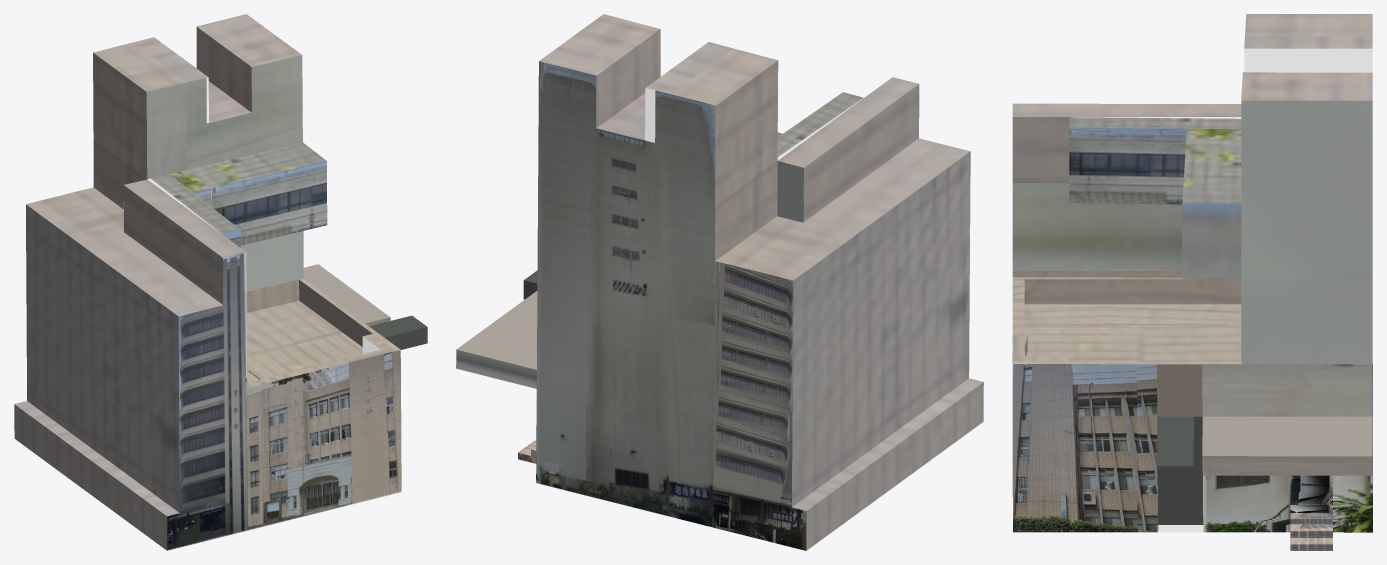
The model's file is zcl.glb.
The picture shows the model from 3 angles, left to right: view 1: azimuth 30°, elevation 25°; view 2: azimuth 150°, elevation 25°; view 3: azimuth 270°, elevation 25°; orthographic projection. The views are drawn at different scales.
Visible parts, largest first — view 1: 資訊樓; view 2: 資訊樓; view 3: 資訊樓.
Part boxes in pixels (x1,y1,x2,y2): 資訊樓: (14,14,427,550); 資訊樓: (456,14,983,550); 資訊樓: (1012,14,1372,550).
Size of what is drawn, in the model's own units: 0.8541 by 0.9328 by 0.7053.
5 materials, 1 textured.
